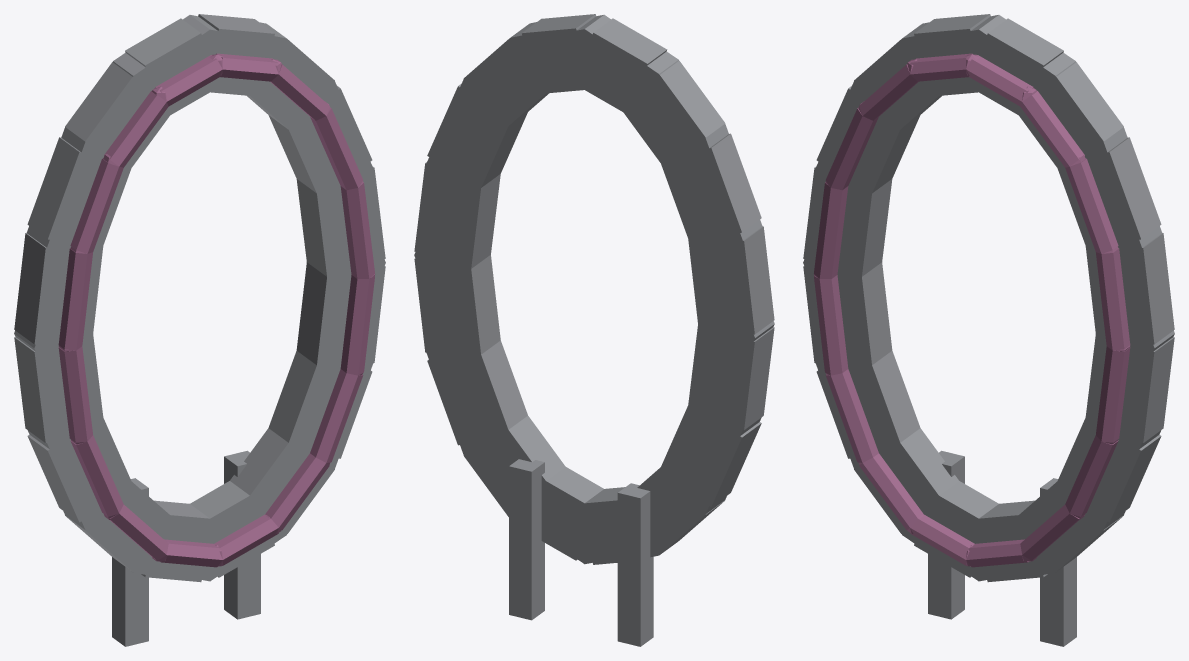
File: HJ_Neon_O.fbx
3 renders of one model, left to right at view 1: azimuth 30°, elevation 25°; view 2: azimuth 150°, elevation 25°; view 3: azimuth 330°, elevation 25°, orthographic. The views are drawn at different scales.
Parts seen in each view (by area): view 1: HJ_Neon_O; view 2: HJ_Neon_O; view 3: HJ_Neon_O.
Boxes of the visible parts, left/top/right/bottom form: HJ_Neon_O: left=14, top=14, right=385, bottom=646; HJ_Neon_O: left=414, top=14, right=774, bottom=646; HJ_Neon_O: left=803, top=14, right=1174, bottom=646.
Bounding box in the file's own units: 1.2 × 2 × 0.255.
